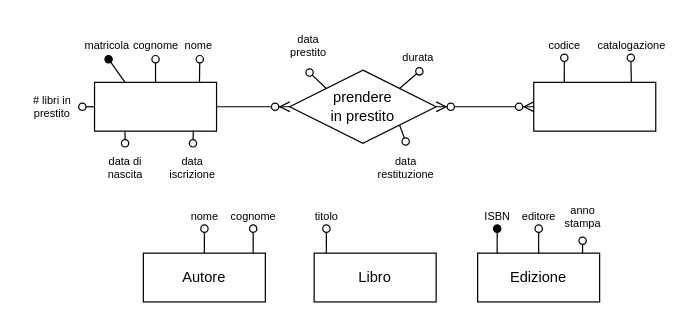
The diagram is 700 pixels wide and 323 high, and some of its shapes have lost their labels. Here are the shapes that lost their labels. From the top down, the box of each, then its label:
(93, 81, 217, 131): Socio
(533, 81, 656, 131): Volume/Copia
